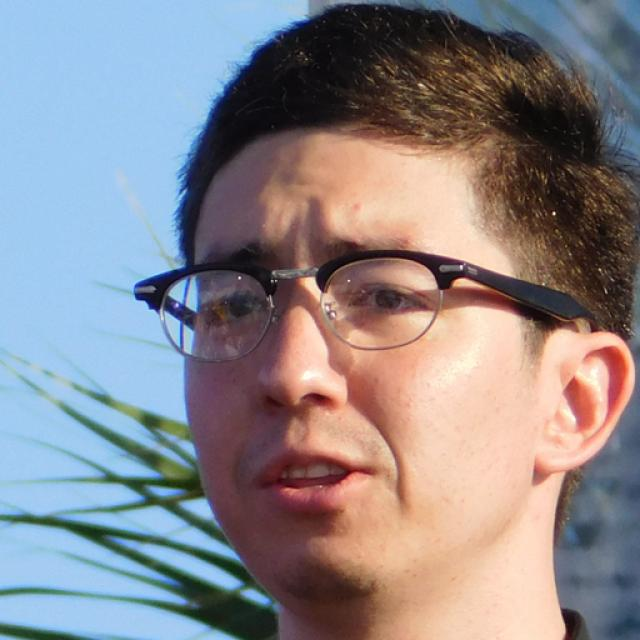Acne: (348, 201, 368, 216)
